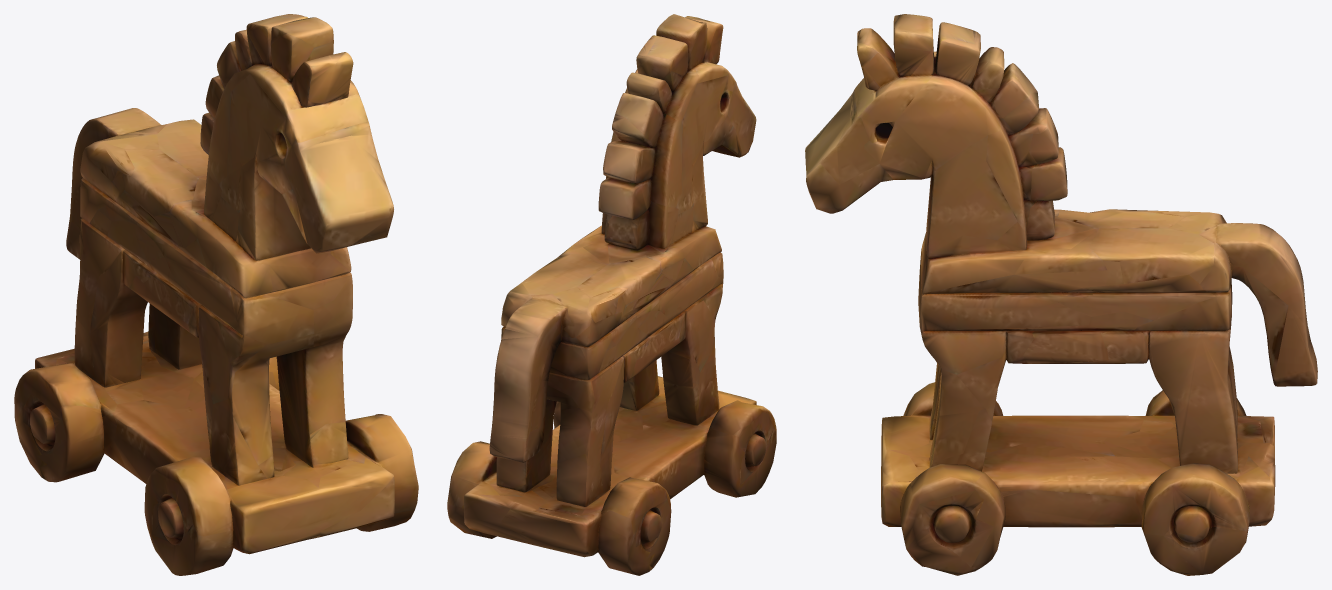
The model's file is trojan_pbr.glb.
3 renders of one model, left to right at view 1: azimuth 30°, elevation 25°; view 2: azimuth 150°, elevation 25°; view 3: azimuth 270°, elevation 25°, orthographic. The views are drawn at different scales.
Visible parts, largest first — view 1: model.019; view 2: model.019; view 3: model.019.
Boxes of the visible parts, box(x1,y1,x2,y2) form: model.019: box(14, 14, 418, 575); model.019: box(447, 14, 776, 575); model.019: box(805, 14, 1317, 575).
Bounding box in the file's own units: 0.7836 × 1.74 × 1.61.
1 material, 1 textured.
